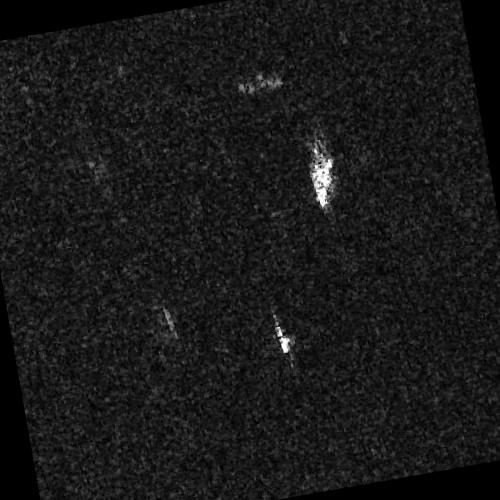ship: (309, 142, 333, 209), (272, 315, 291, 356)
